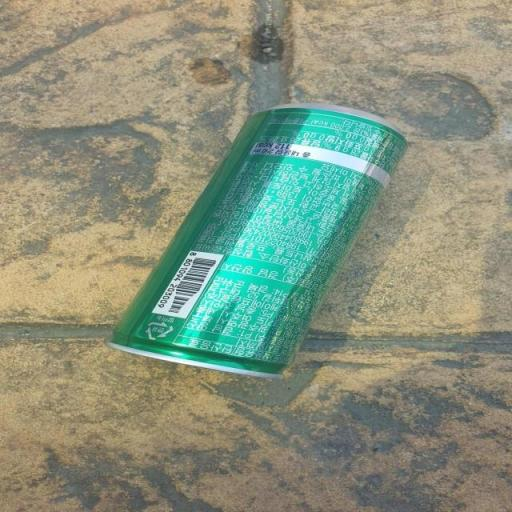metal: (81, 88, 428, 402)
